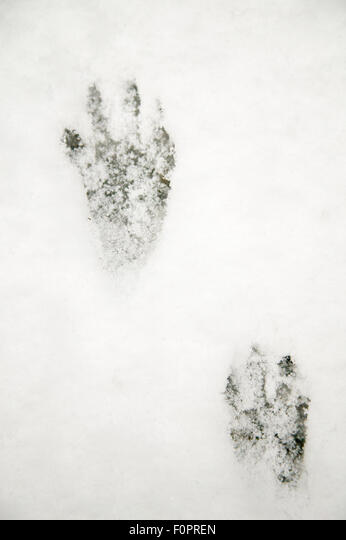raccoon: (35, 45, 211, 285), (217, 339, 333, 492)
